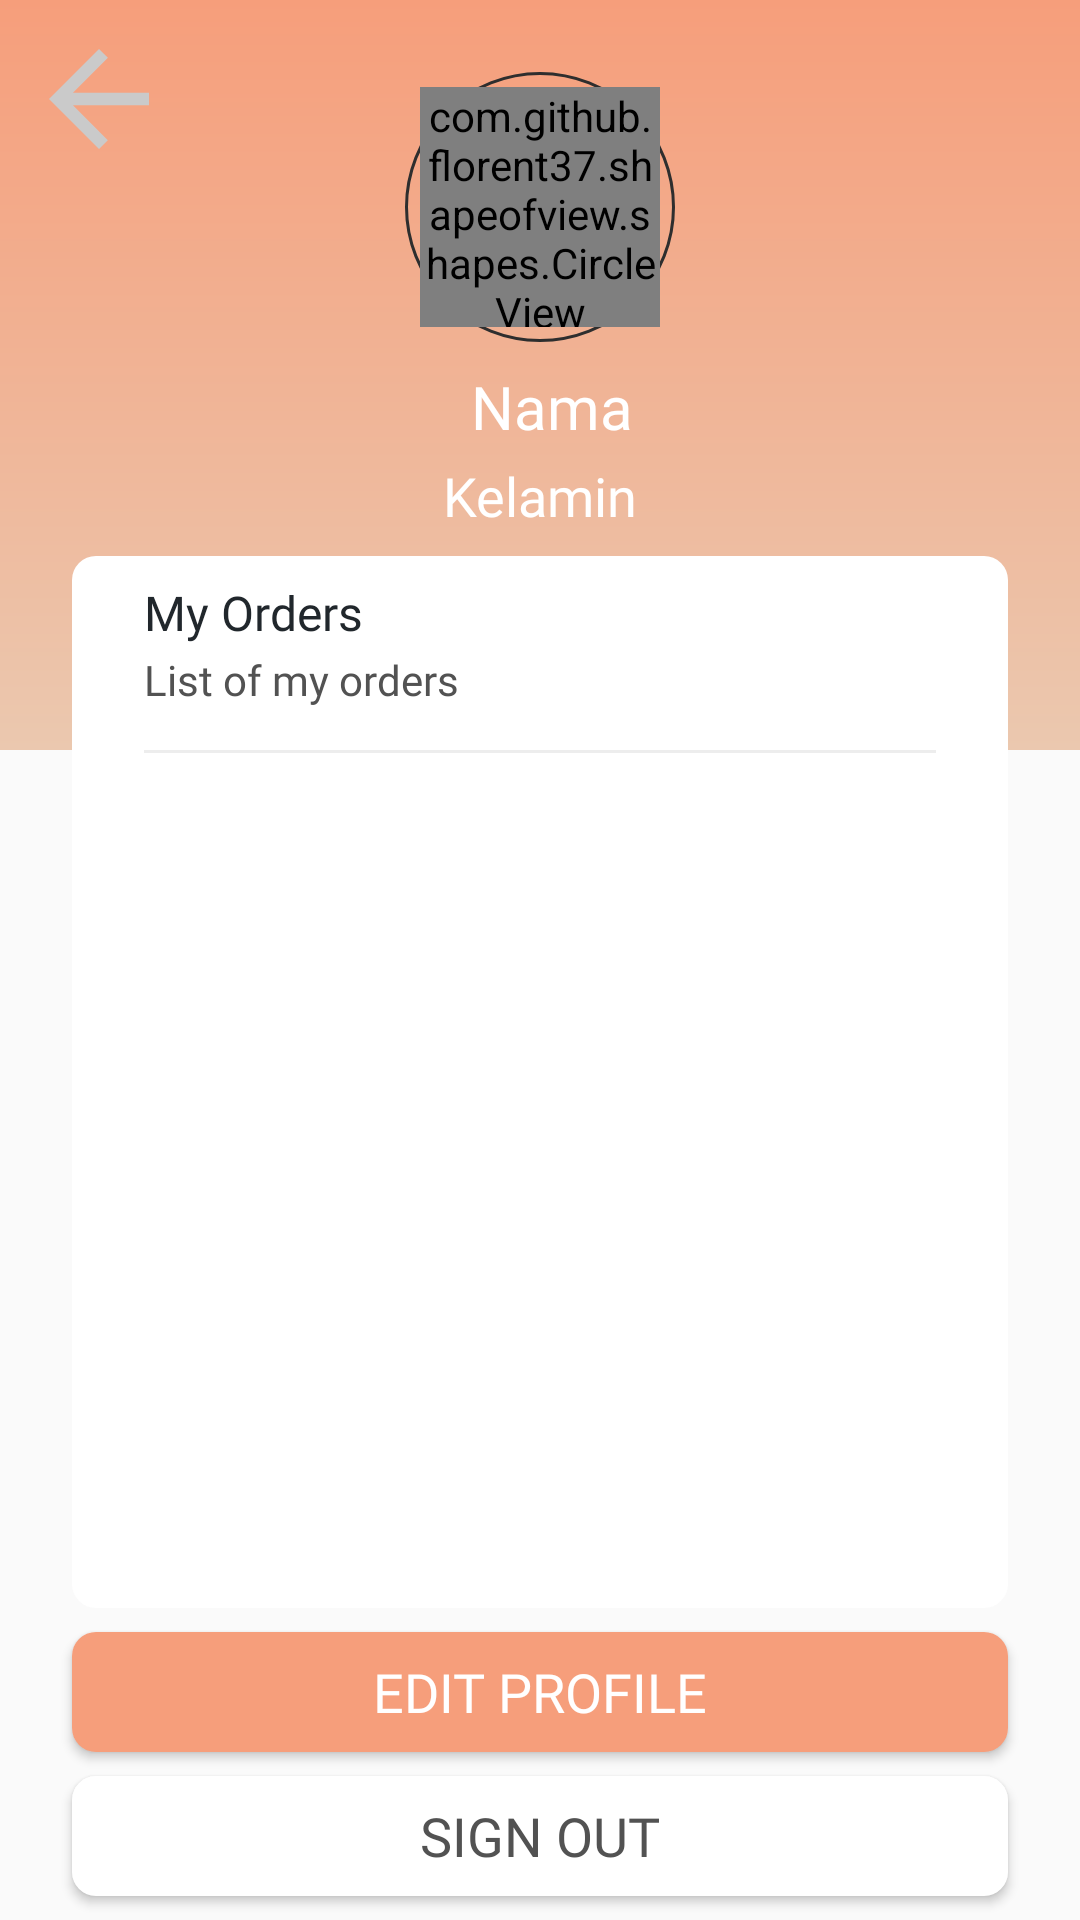

Where icons sit on this 1080w x 1920h app screen, as box(x1, y1, x2, y2):
back: box(49, 49, 149, 149)
